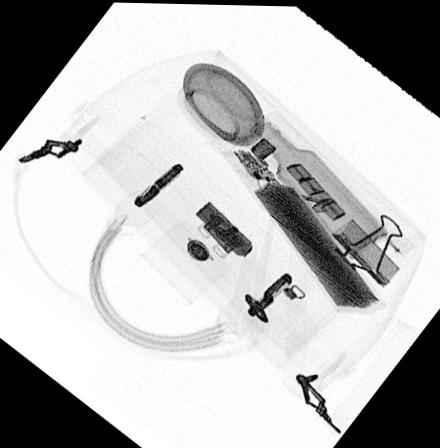Powerbank: (219, 146, 383, 314)
